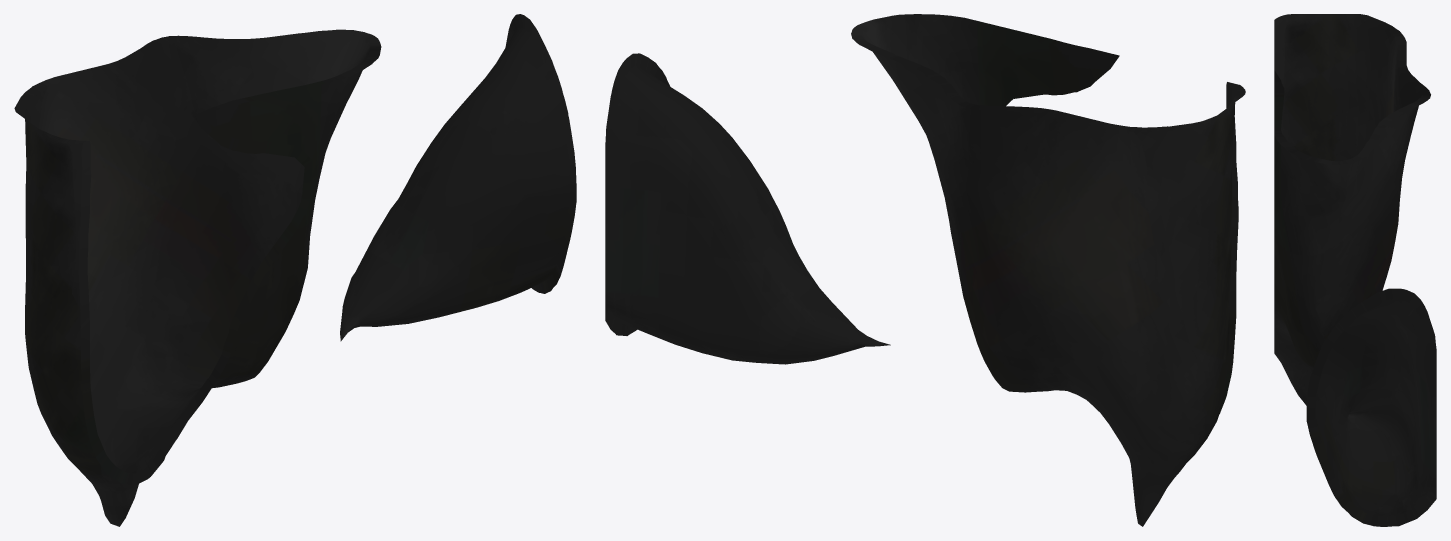
The model's file is z20-167766-405238-h0-yup-uvflip-v3-world.glb.
3 views of the same model, side by side, from view 1: azimuth 30°, elevation 25°; view 2: azimuth 150°, elevation 25°; view 3: azimuth 270°, elevation 25° (orthographic). The views are drawn at different scales.
Bounding box in the file's own units: 28.56 × 21.56 × 8.48.
1 material, 1 textured.
